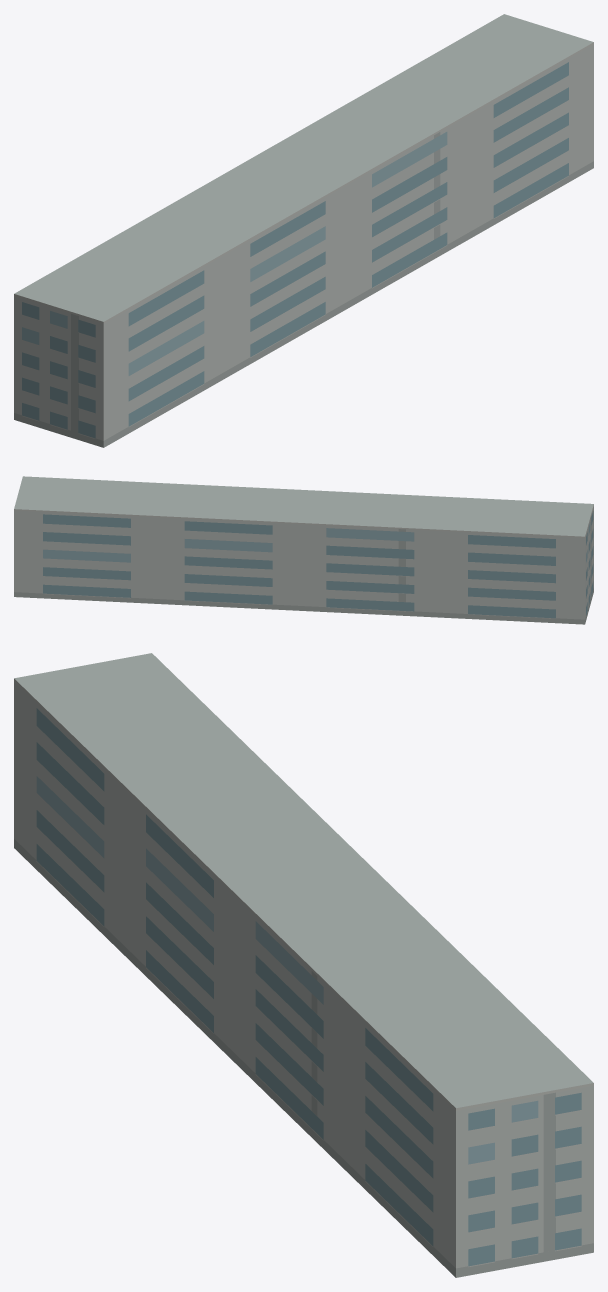
File: residential-a5131d78-6c5e-43ac-a40a-e8d5f093797d.glb
3 views of the same model, one above another, from view 1: azimuth 30°, elevation 25°; view 2: azimuth 150°, elevation 25°; view 3: azimuth 270°, elevation 25° (orthographic). The views are drawn at different scales.
Parts seen in each view (by area): view 1: residential-a5131d78-6c5e-43ac-a40a-e8d5f093797d.tmp; view 2: residential-a5131d78-6c5e-43ac-a40a-e8d5f093797d.tmp; view 3: residential-a5131d78-6c5e-43ac-a40a-e8d5f093797d.tmp.
Part boxes in pixels (x1,y1,x2,y2): residential-a5131d78-6c5e-43ac-a40a-e8d5f093797d.tmp: [14, 14, 593, 447]; residential-a5131d78-6c5e-43ac-a40a-e8d5f093797d.tmp: [14, 476, 593, 624]; residential-a5131d78-6c5e-43ac-a40a-e8d5f093797d.tmp: [14, 653, 593, 1277].
Bounding box in the file's own units: 87.75 × 15.25 × 47.24.
